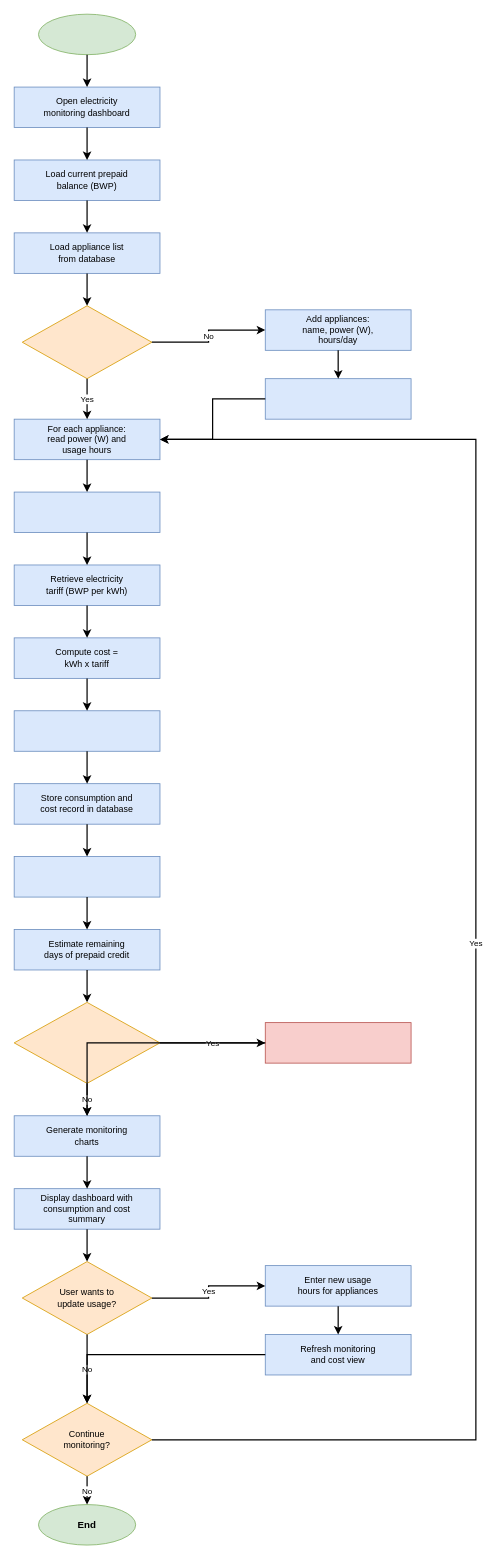
Some shapes in this 497 by 1559 pixel diagram are drawn without their labels. Here are the shapes that lost their labels. From the top down, the centre of each, then its label:
point (87, 34): Start
point (86, 342): Appliances registered?
point (337, 398): Save appliance to database
point (86, 512): Compute kWh = (W / 1000) x hours
point (86, 730): Aggregate total daily consumption and cost
point (86, 876): Update running monthly totals (kWh and BWP)
point (86, 1042): Consumption or cost exceeds threshold?
point (337, 1042): Trigger low-balance alert on dashboard
